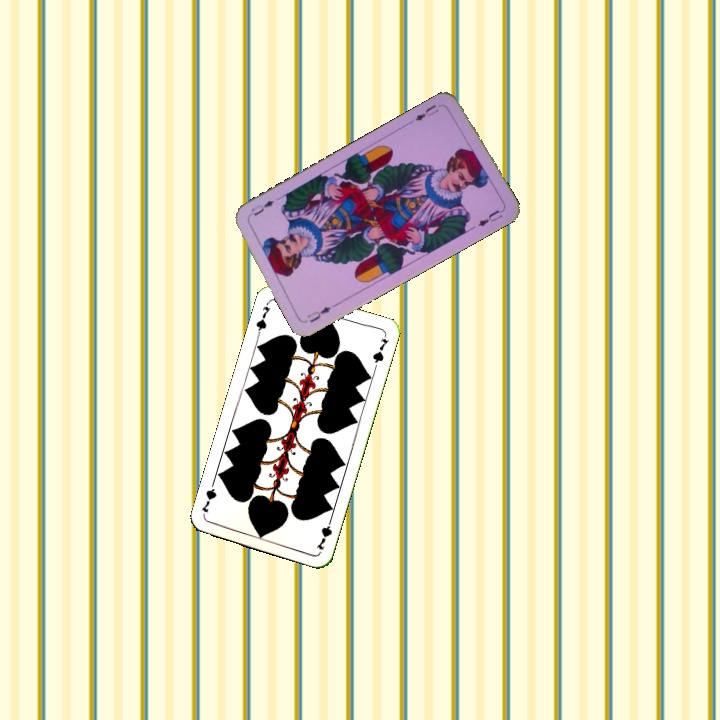EU: (411, 100, 446, 124), (303, 302, 333, 325)
G7: (312, 513, 335, 552), (252, 297, 273, 337)
